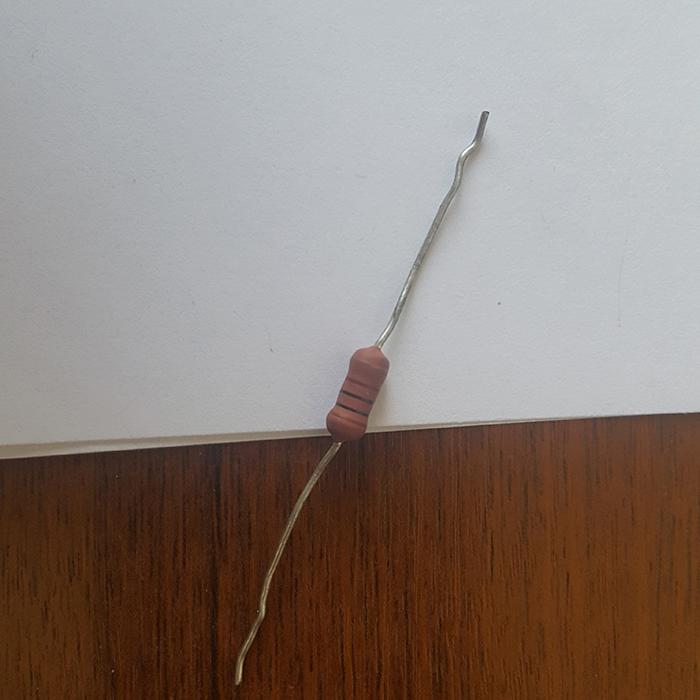resistor: (327, 346, 390, 442)
